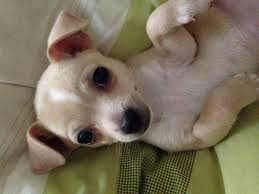chihuahua: (26, 1, 258, 174)
